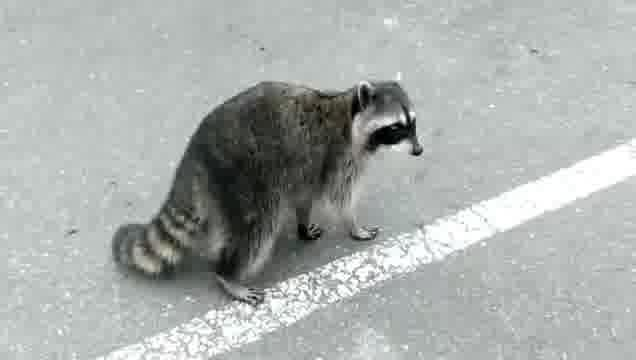raccoon: (109, 67, 432, 310)
